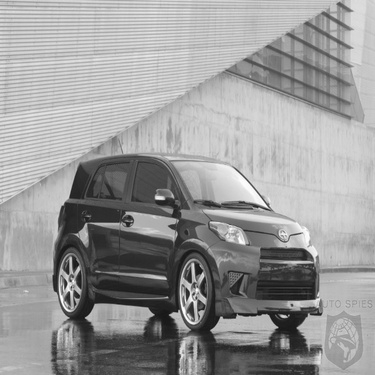car: (46, 146, 330, 333)
